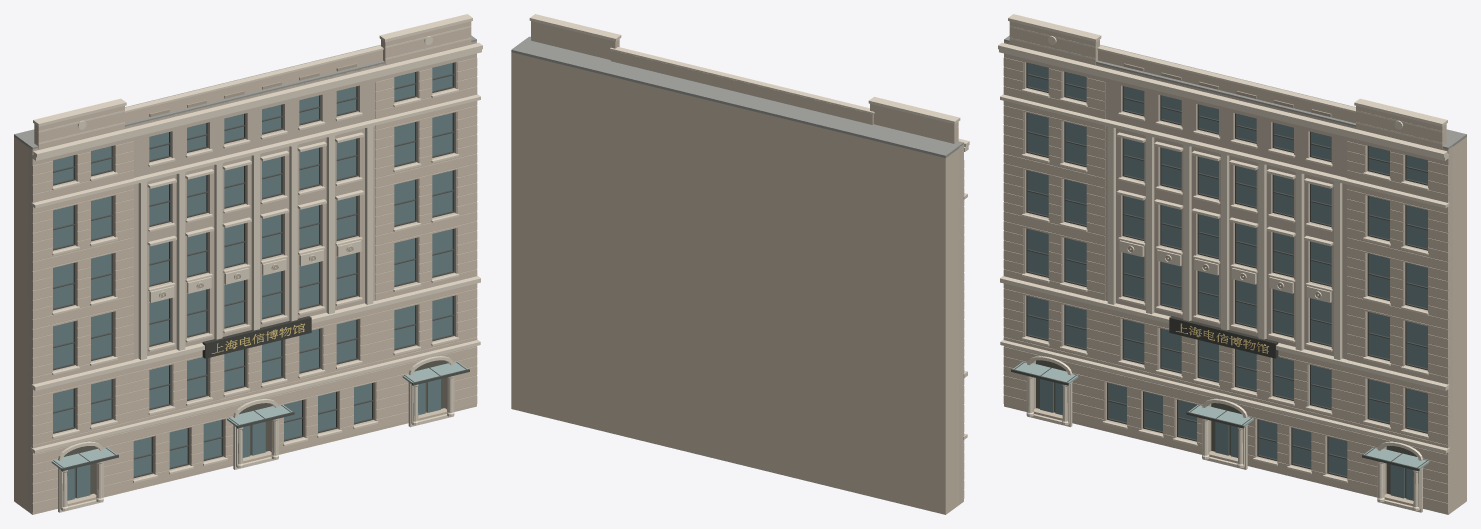
File: huangpu-yanan-road-telegraph-exchange-lod.glb
3 views of the same model, side by side, from view 1: azimuth 30°, elevation 25°; view 2: azimuth 150°, elevation 25°; view 3: azimuth 330°, elevation 25° (orthographic). The views are drawn at different scales.
Visible parts, largest first — view 1: 大北大楼电报局延安东路正立面; view 2: 大北大楼电报局延安东路正立面; view 3: 大北大楼电报局延安东路正立面.
Part boxes in pixels (x1,y1,x2,y2): 大北大楼电报局延安东路正立面: (14, 14, 482, 514); 大北大楼电报局延安东路正立面: (511, 14, 969, 514); 大北大楼电报局延安东路正立面: (998, 14, 1466, 514).
Bounding box in the file's own units: 29.74 × 25.05 × 3.44.
